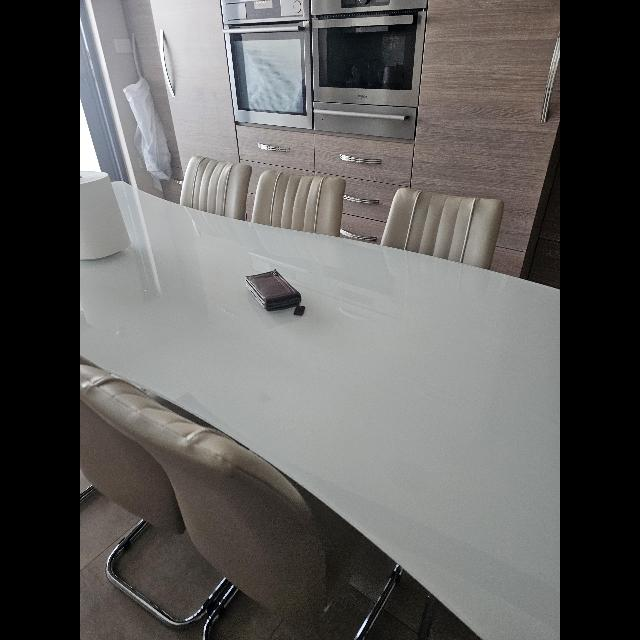Wallet: (245, 270, 302, 312)
